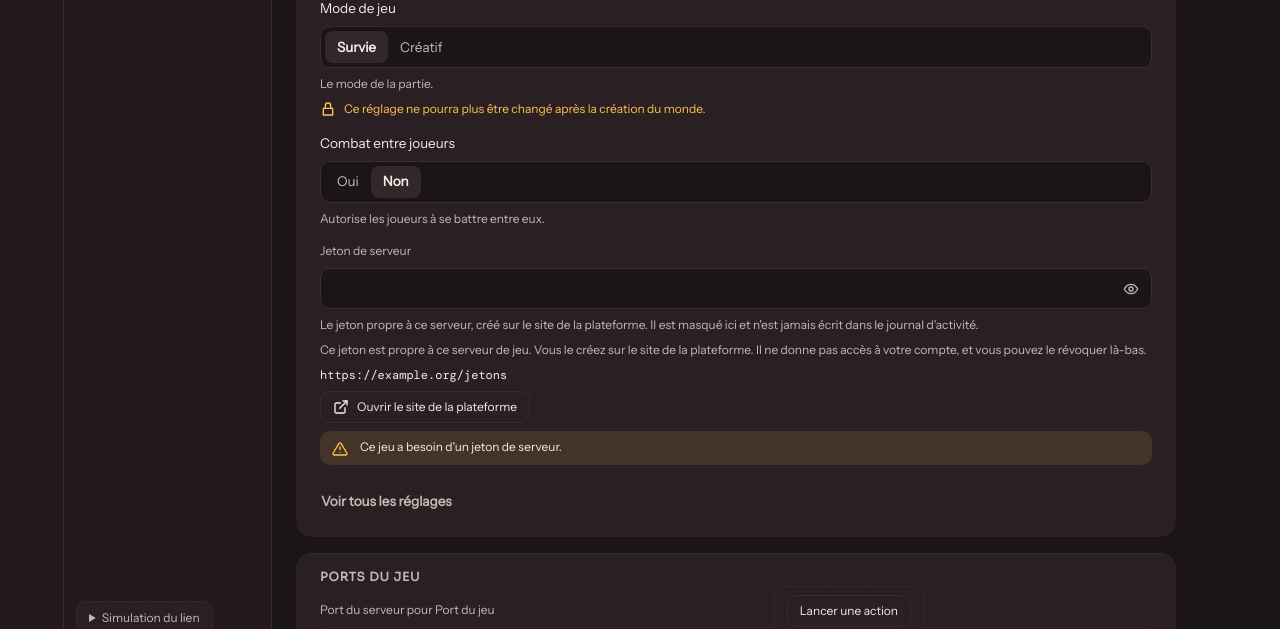
Test case: l'étape « Ressources » (BR-FICHE-020 à 023, BR-RES-037) › place les curseurs sur ce que la fiche recommande, avec sa preuve et son minimum
(page scrolled)
Type "jeton-du-serveur" into the password field labelled "Jeton de serveur". click: (716, 289)
box: [321,269,1111,308]
Wait 450 ms
(page scrolled)
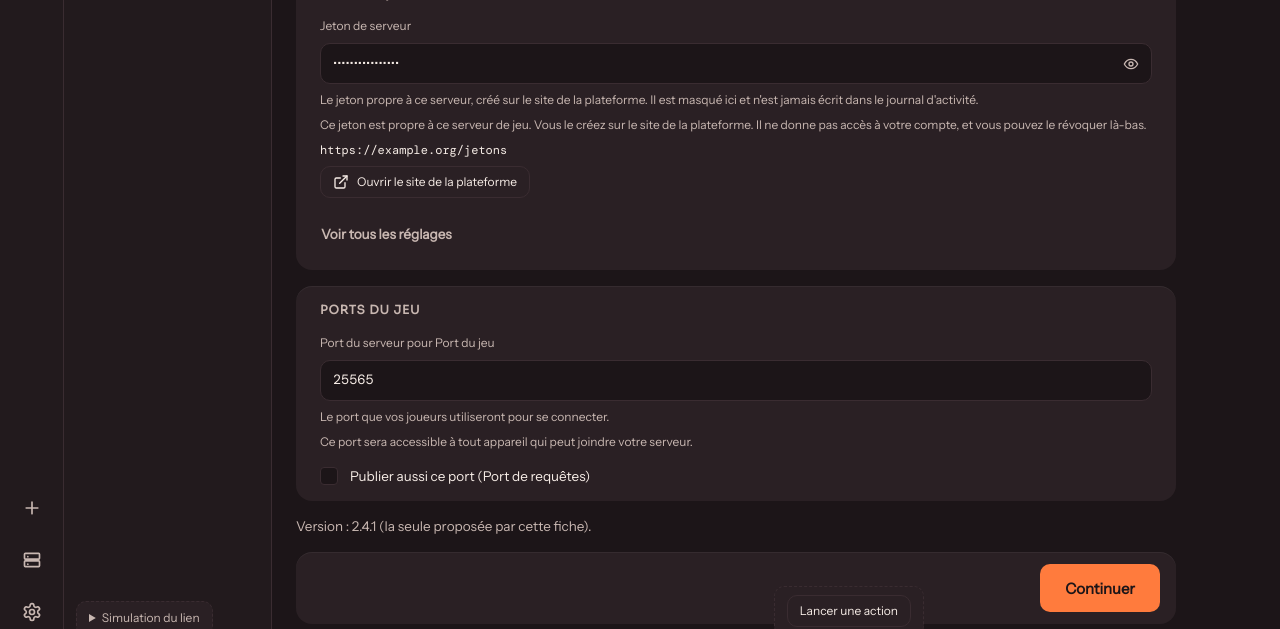
Click the button "Continuer". click: click(1100, 588)
box: [1040,564,1160,612]
Wait 450 ms
(page scrolled)
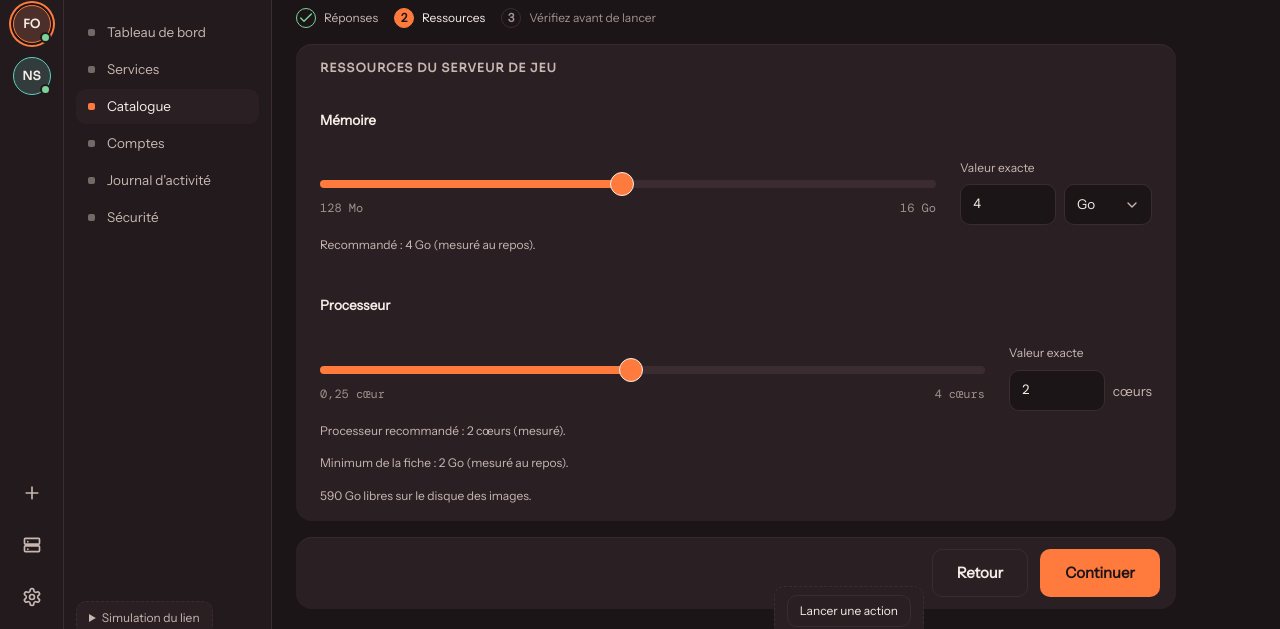
Check: the element that starts with "Ressources du serveur de jeu" shows "Recommandé : 4 Go (mesuré au repos).", box [320,237,536,252]
Check: the element that starts with "Ressources du serveur de jeu" shows "Minimum de la fiche : 2 Go (mesuré au repos).", box [320,455,568,470]
Check: the element that starts with "Ressources du serveur de jeu" shows "Processeur recommandé : 2 cœurs (mesuré).", box [320,423,566,438]
